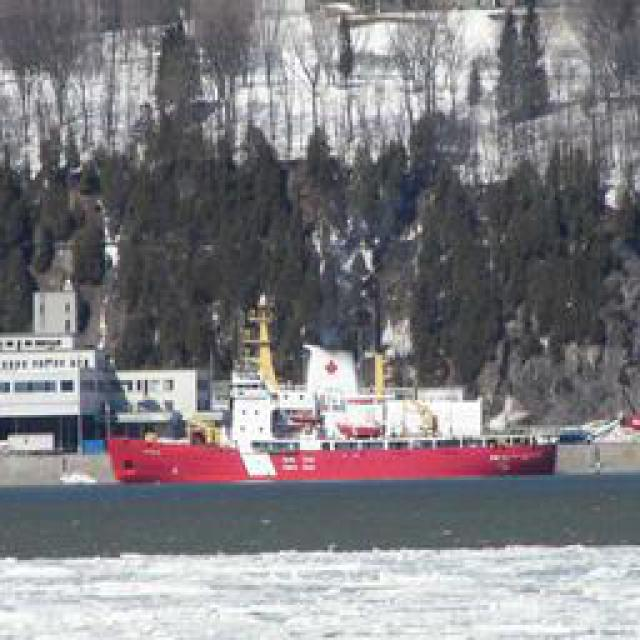Ship: (112, 396, 562, 491)
